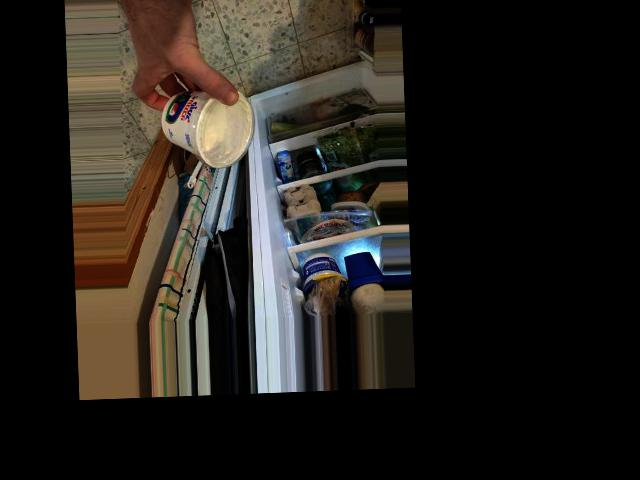cotage: (160, 85, 252, 163)
